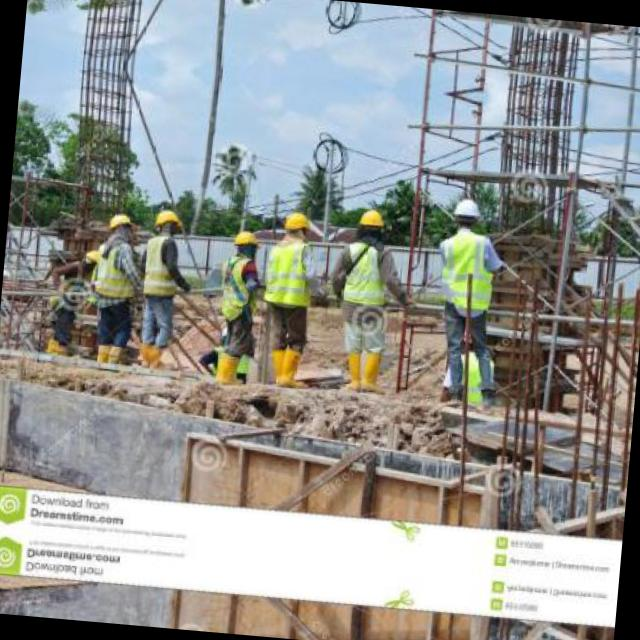helmet: (450, 198, 482, 236), (103, 209, 137, 244), (230, 223, 260, 261), (355, 206, 385, 242), (152, 205, 184, 238), (282, 207, 310, 240), (76, 243, 105, 270)
